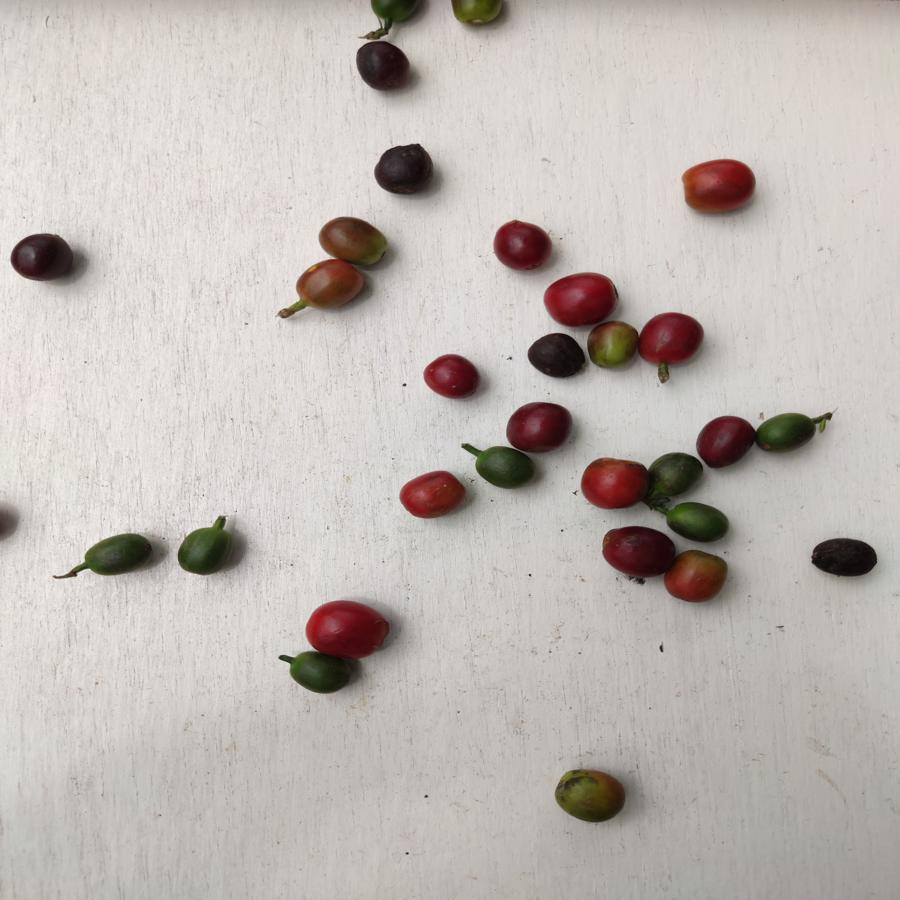Inmaduro: (82, 531, 156, 580), (283, 652, 359, 698), (469, 446, 539, 491), (662, 500, 732, 544), (755, 413, 823, 458), (176, 526, 238, 575), (647, 451, 702, 501), (365, 1, 429, 24)
Maduro: (303, 596, 390, 657), (680, 157, 761, 217), (542, 273, 620, 326), (580, 455, 647, 511), (641, 312, 705, 367), (399, 471, 469, 521), (424, 355, 481, 404)
Pinton: (554, 764, 628, 828), (294, 261, 377, 310), (318, 212, 386, 267), (664, 549, 729, 603), (584, 321, 640, 372), (450, 1, 505, 28)
Sobremaduro: (372, 141, 438, 198), (603, 525, 671, 580), (351, 40, 417, 96), (492, 214, 553, 272), (506, 401, 575, 450), (7, 234, 77, 282), (810, 535, 880, 582), (697, 413, 754, 466), (527, 334, 588, 381)
